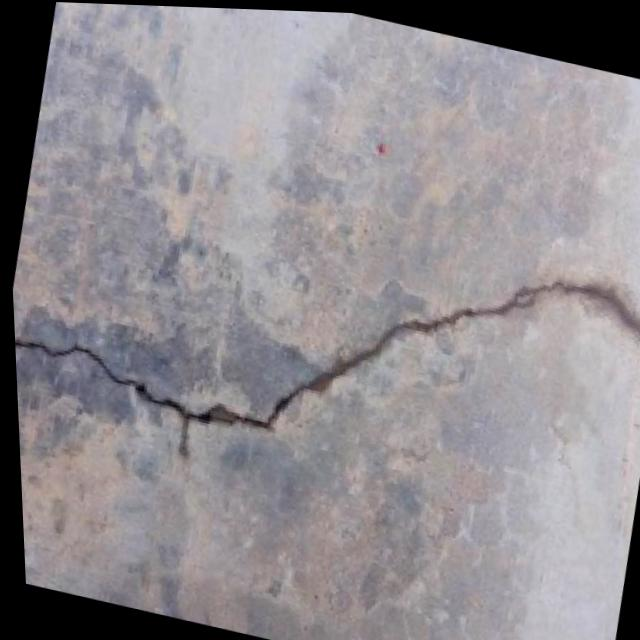Crack: (5, 135, 640, 548)
